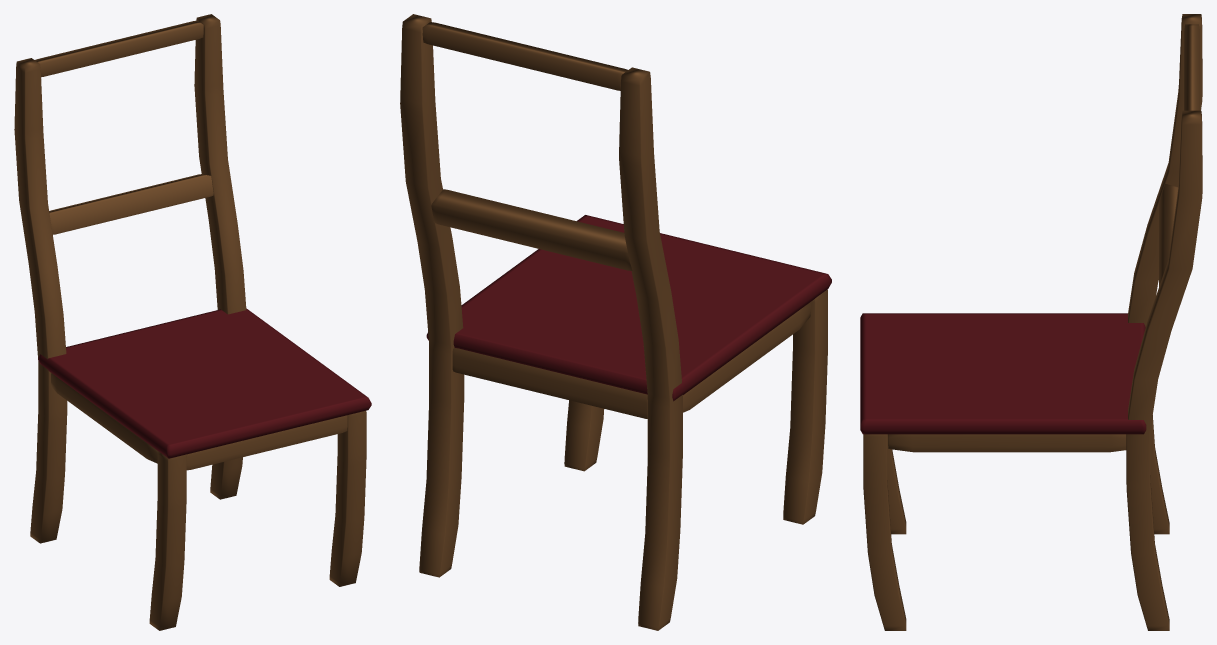
Rendered from Chair.fbx.
The picture shows the model from 3 angles, left to right: view 1: azimuth 30°, elevation 25°; view 2: azimuth 150°, elevation 25°; view 3: azimuth 270°, elevation 25°; orthographic projection. The views are drawn at different scales.
Visible parts, largest first — view 1: Cube; view 2: Cube; view 3: Cube.
Part boxes in pixels (x1,y1,x2,y2): Cube: (14,14,371,630); Cube: (400,14,831,630); Cube: (860,14,1202,630).
Bounding box in the file's own units: 244 × 532 × 323.
